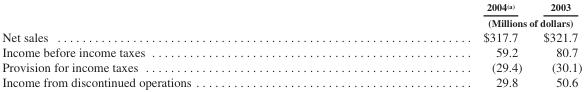table: (1, 1, 581, 88)
table column: (1, 1, 336, 88), (336, 1, 531, 88), (531, 1, 581, 88)
table column header: (1, 1, 581, 28)
table row: (1, 28, 581, 44), (1, 44, 581, 59), (1, 59, 581, 74), (1, 14, 581, 28), (1, 74, 581, 88), (1, 1, 581, 14)
table spanning cell: (336, 14, 581, 28)
